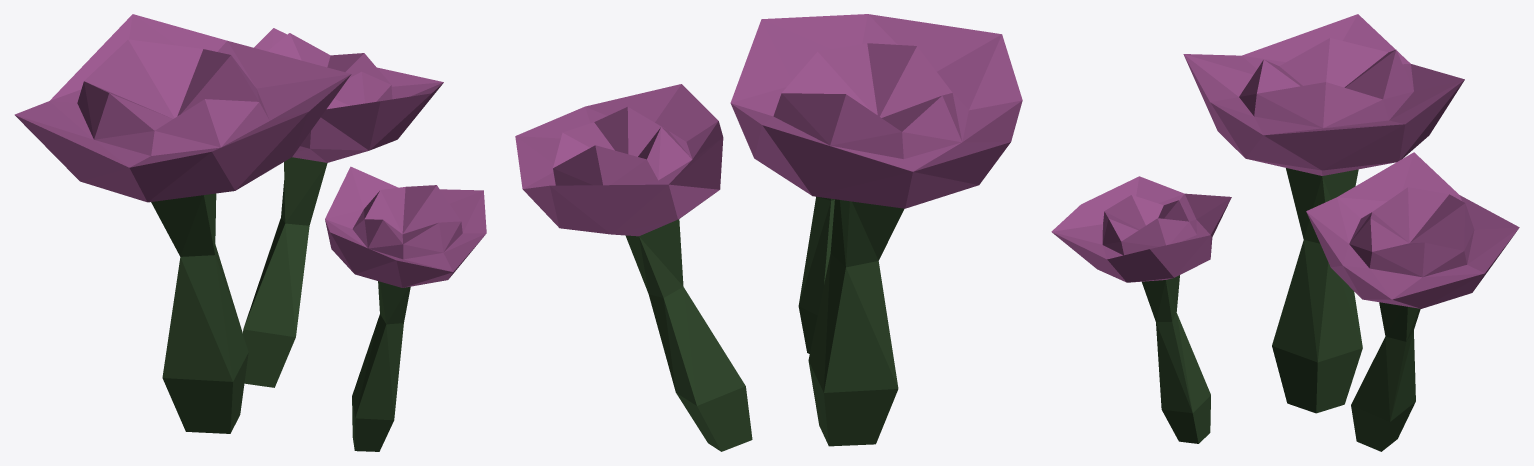
File: SM_Env_Flower_03.fbx
3 renders of one model, left to right at view 1: azimuth 30°, elevation 25°; view 2: azimuth 150°, elevation 25°; view 3: azimuth 270°, elevation 25°, orthographic. The views are drawn at different scales.
Parts seen in each view (by area): view 1: SM_Env_Flower_03; view 2: SM_Env_Flower_03; view 3: SM_Env_Flower_03.
Part boxes in pixels (x1,y1,x2,y2): SM_Env_Flower_03: (14,14,486,451); SM_Env_Flower_03: (515,14,1022,451); SM_Env_Flower_03: (1051,14,1519,451).
Size of the model in its own units: 0.00493 by 0.00387 by 0.00483.
Materials: 1 (1 with a texture image).
